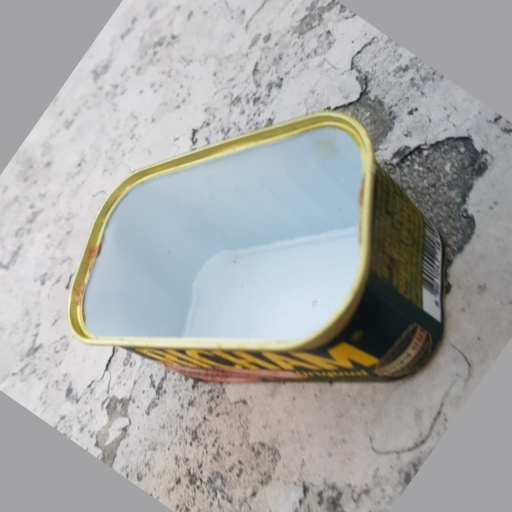Metal_2: (64, 114, 448, 384)
